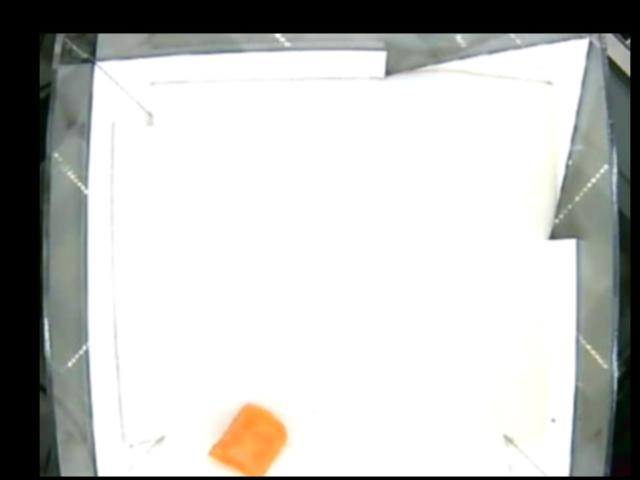Carrot: (205, 402, 288, 476)
